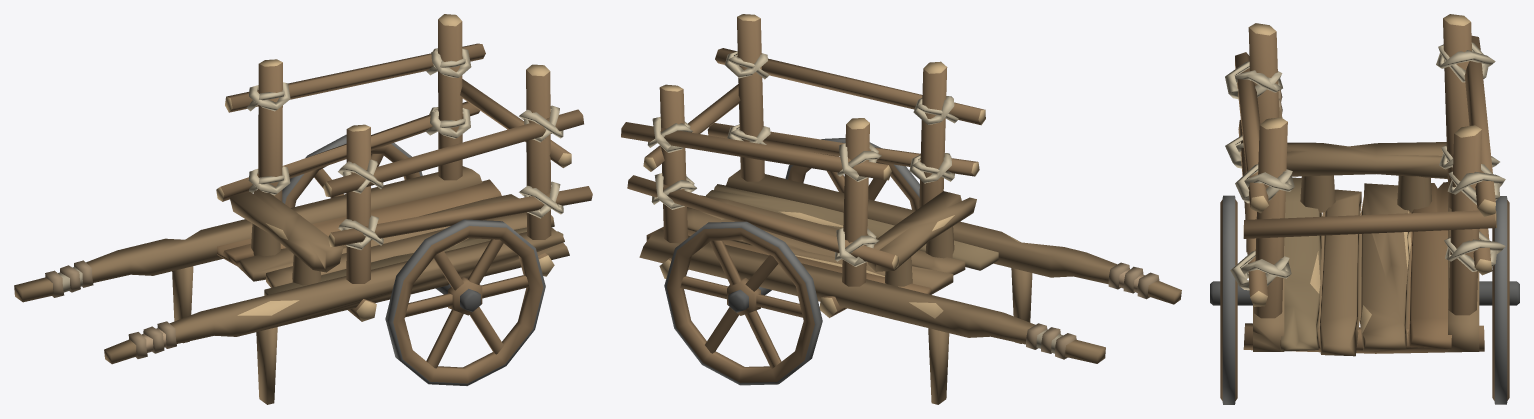
The model's file is rpgpp_ag_wagon_01a.fbx.
The picture shows the model from 3 angles, left to right: view 1: azimuth 30°, elevation 25°; view 2: azimuth 150°, elevation 25°; view 3: azimuth 270°, elevation 25°; orthographic projection. The views are drawn at different scales.
Visible parts, largest first — view 1: rpgpp_ag_wagon_01a; view 2: rpgpp_ag_wagon_01a; view 3: rpgpp_ag_wagon_01a.
Boxes of the visible parts, bbox=[...] form: rpgpp_ag_wagon_01a: bbox=[14, 14, 592, 404]; rpgpp_ag_wagon_01a: bbox=[621, 14, 1181, 404]; rpgpp_ag_wagon_01a: bbox=[1210, 14, 1519, 404].
Size of the model in its own units: 4.3 by 2.37 by 2.04.
